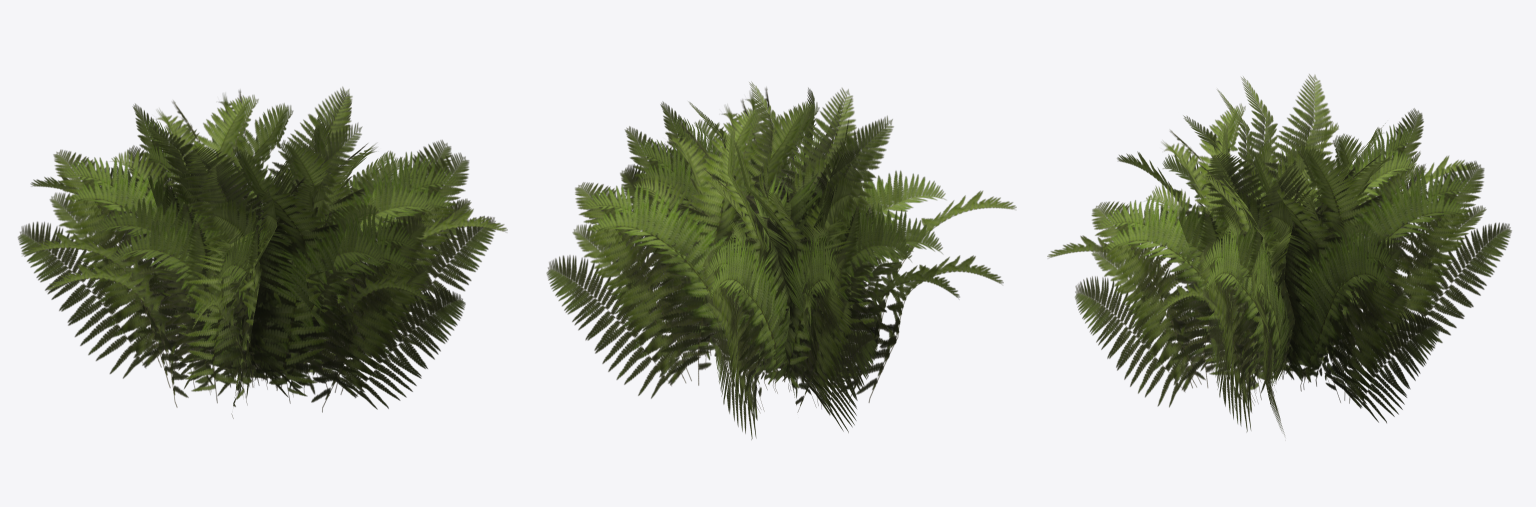
Rendered from fern2.glb.
3 renders of one model, left to right at view 1: azimuth 30°, elevation 25°; view 2: azimuth 150°, elevation 25°; view 3: azimuth 270°, elevation 25°, orthographic. The views are drawn at different scales.
Parts seen in each view (by area): view 1: paporotnik.005_0; view 2: paporotnik.005_0; view 3: paporotnik.005_0.
Part boxes in pixels (x1=…): paporotnik.005_0: x1=18, y1=86, x2=507, y2=418; paporotnik.005_0: x1=546, y1=81, x2=1016, y2=439; paporotnik.005_0: x1=1047, y1=74, x2=1511, y2=434.
Bounding box in the file's own units: 7.79 × 5 × 7.68.
Materials: 1 (1 with a texture image).
